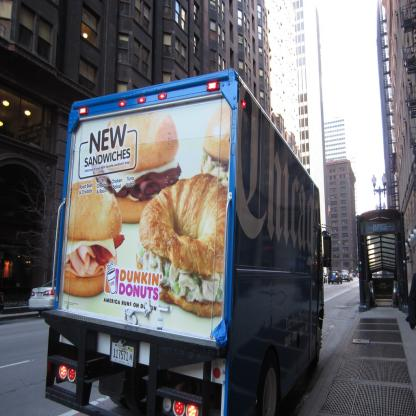Car: (29, 277, 74, 321), (329, 270, 346, 290), (341, 271, 354, 280)
